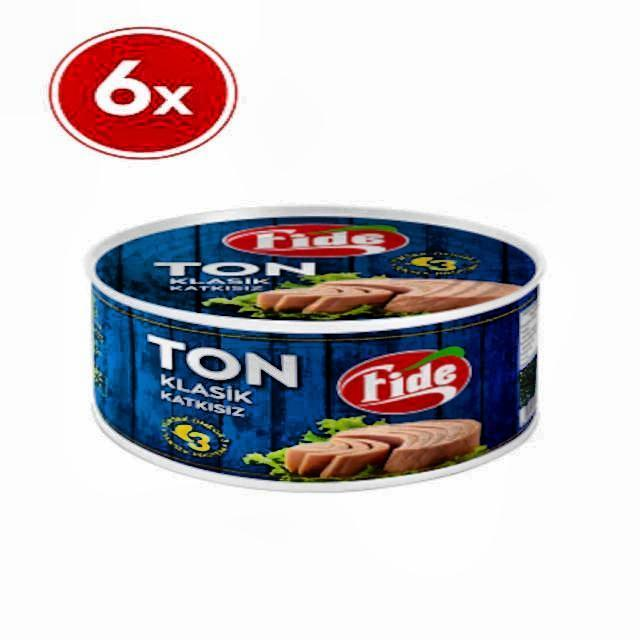metal: (83, 204, 544, 491)
